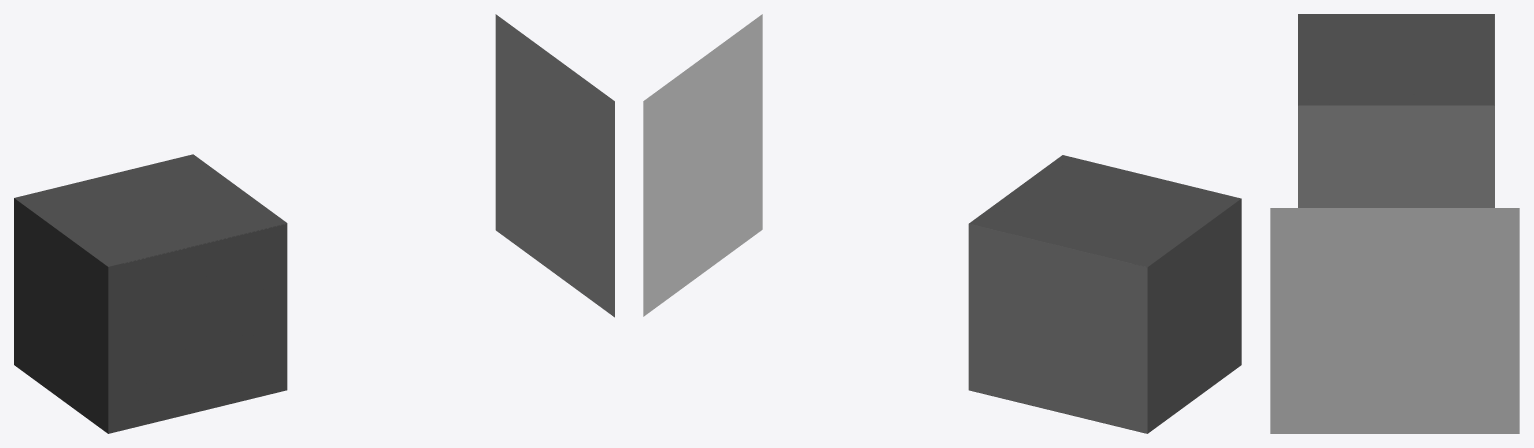
File: test_bsp.dae
3 renders of one model, left to right at view 1: azimuth 30°, elevation 25°; view 2: azimuth 150°, elevation 25°; view 3: azimuth 270°, elevation 25°, orthographic. The views are drawn at different scales.
Visible parts, largest first — view 1: cubo, bsp_Plane; view 2: cubo, bsp_Plane; view 3: bsp_Plane, cubo.
Boxes of the visible parts, x1,y1,x2,y2 form: cubo: [14, 154, 287, 433]; bsp_Plane: [495, 14, 614, 317]; cubo: [968, 155, 1241, 433]; bsp_Plane: [643, 14, 762, 316]; bsp_Plane: [1270, 208, 1519, 433]; cubo: [1298, 14, 1494, 207].
Bounding box in the file's own units: 4.77 × 2 × 2.05.
